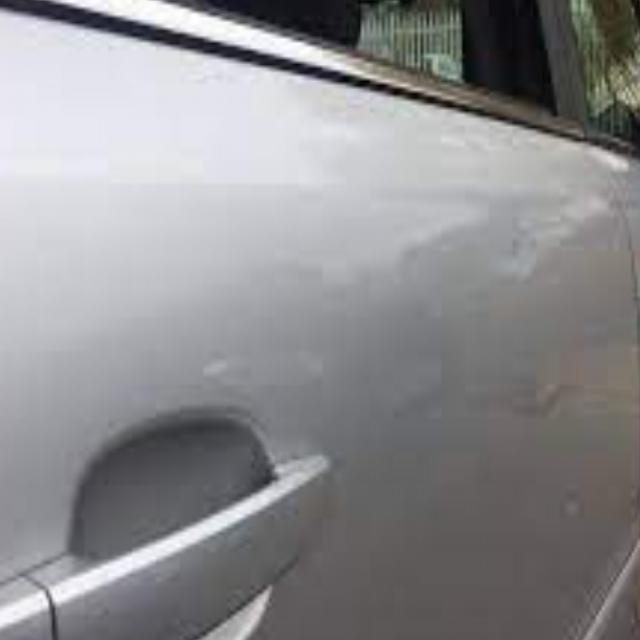dents: (483, 198, 552, 283)
